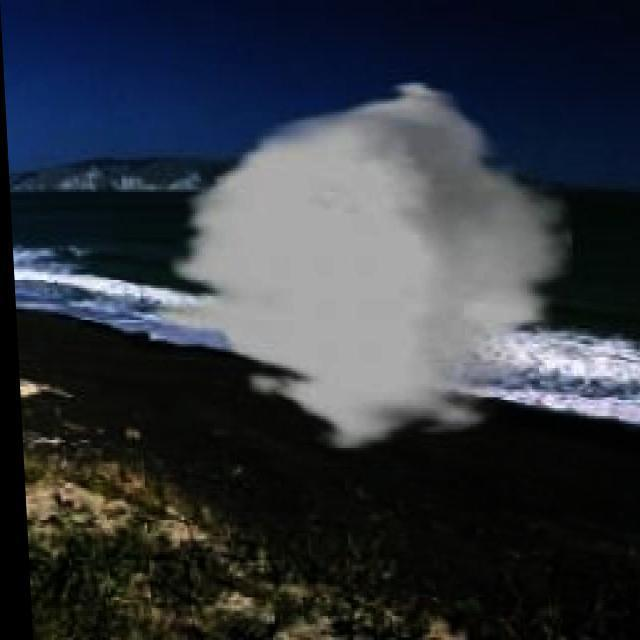Smoke: (160, 73, 586, 460)
